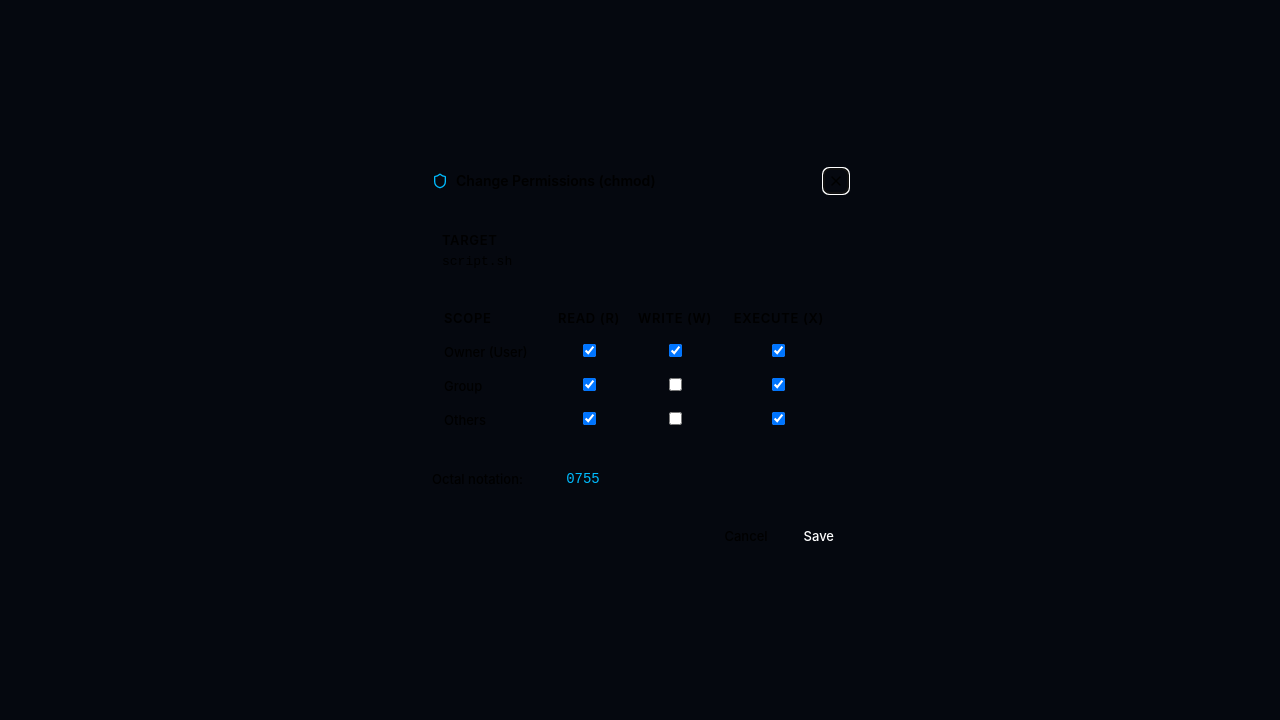
Test: ChmodModal › updates checkboxes when octal input changes
This screenshot has width=1280, height=720.
Replace the text in the field showing "0755" with "0644" at x=583, y=479, box 535,465 -> 631,493
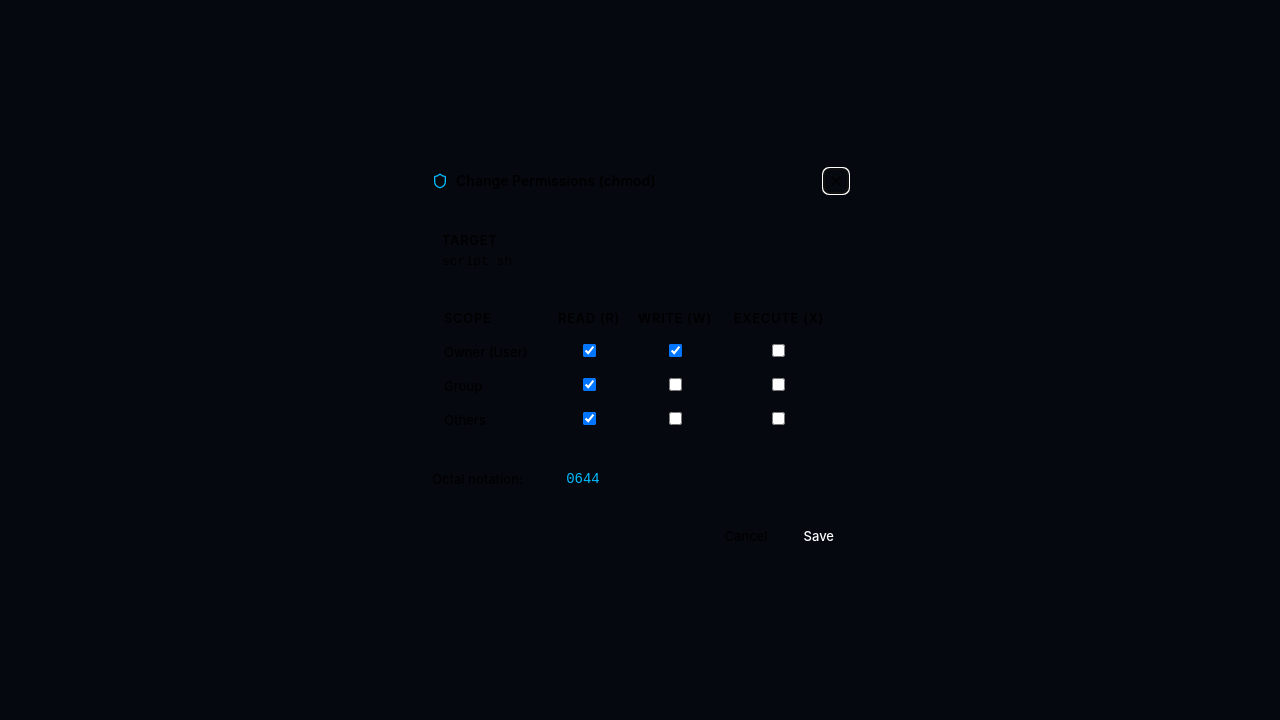
Expected: the checkbox named "Owner execute" is not checked, 772,344 -> 785,357
Expected: the checkbox named "Group execute" is not checked, 772,378 -> 785,391
Expected: the checkbox named "Others execute" is not checked, 772,412 -> 785,425
